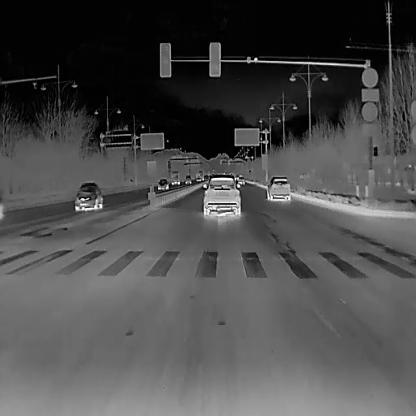car: (202, 173, 241, 217), (73, 180, 103, 210), (264, 175, 290, 200), (157, 177, 168, 189), (238, 176, 245, 184), (184, 175, 191, 183)
truck: (169, 169, 180, 184)
